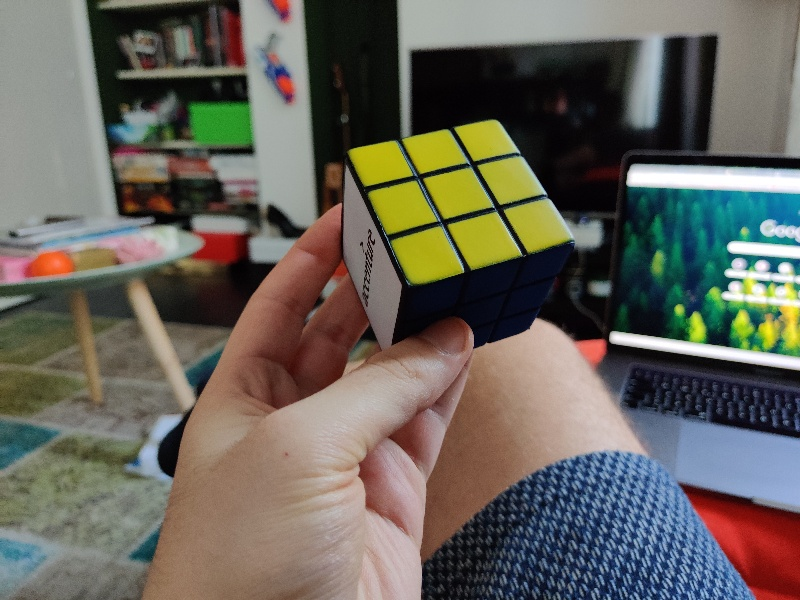rubik: (340, 121, 574, 351)
